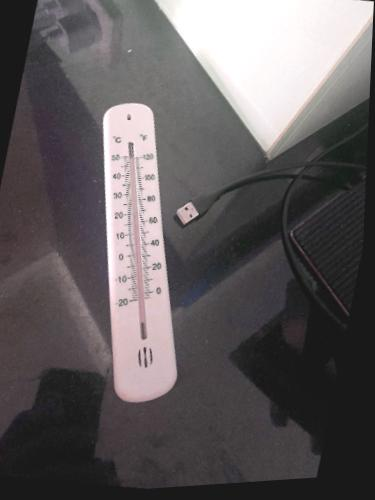thermo: (97, 107, 176, 385)
